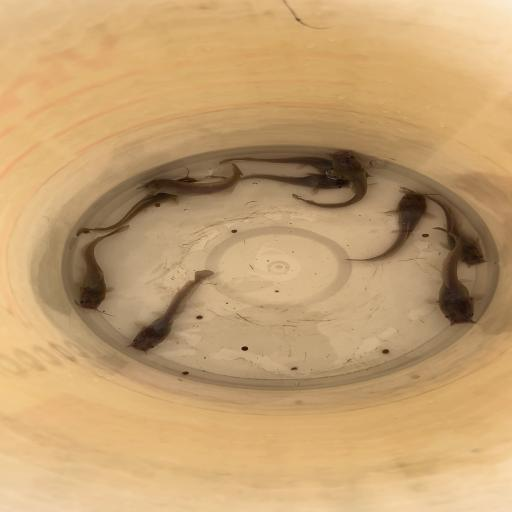lele: (69, 170, 200, 236), (124, 268, 216, 358), (402, 186, 494, 270), (424, 222, 486, 328), (343, 190, 430, 264), (72, 223, 132, 317), (130, 162, 260, 200), (292, 148, 370, 209), (213, 150, 335, 174), (199, 172, 349, 191)
